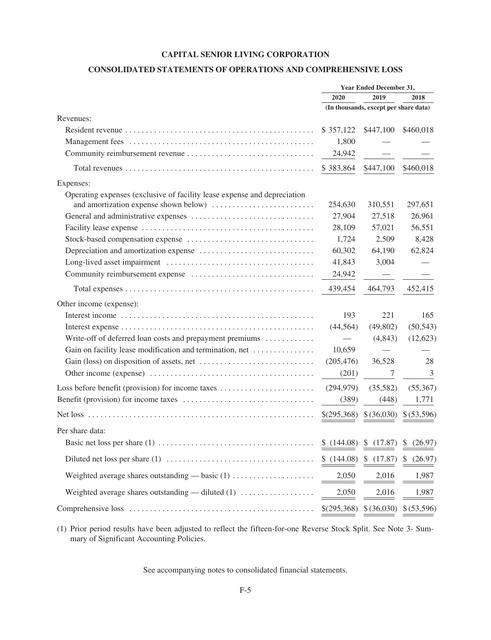box: (53, 83, 436, 545)
